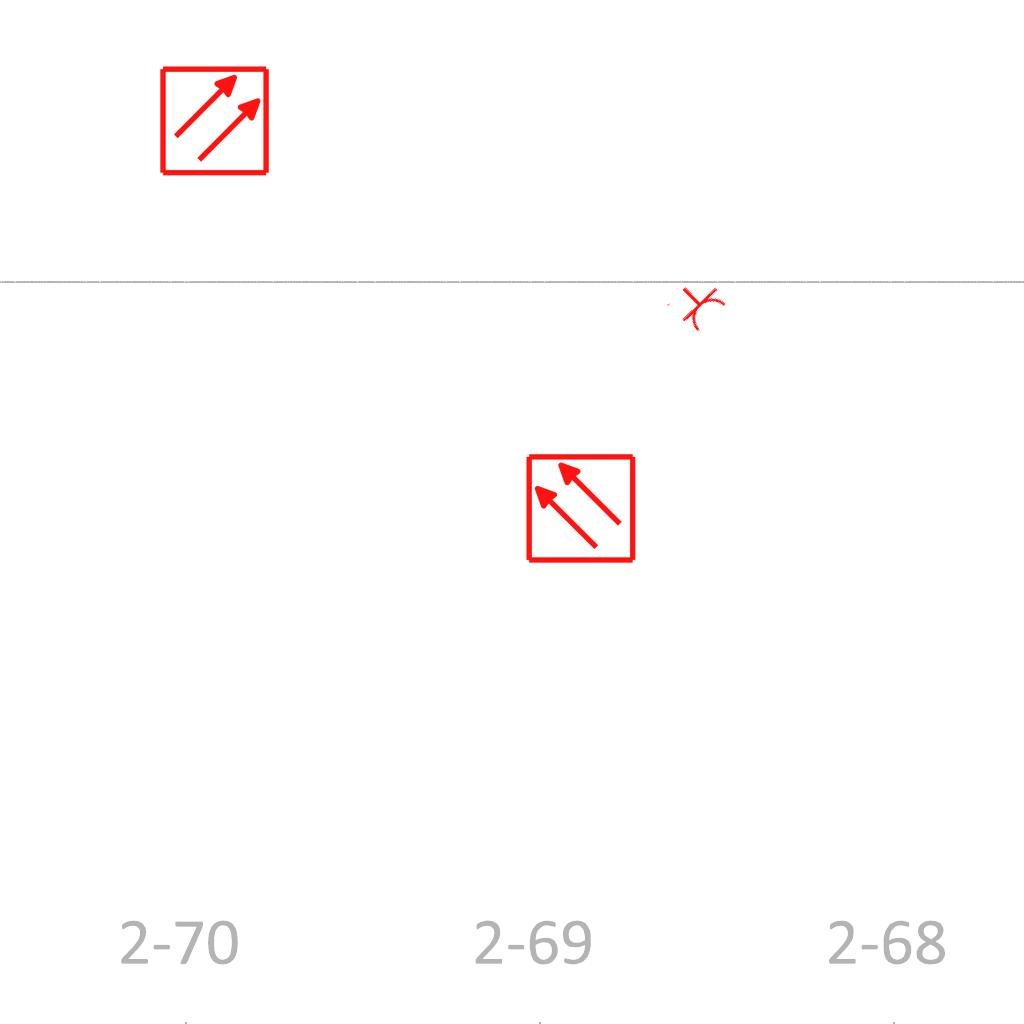RMO_Rauchmelder_optischer: (524, 452, 637, 565), (158, 64, 271, 177)
Schukosteckdose_einfach: (664, 271, 731, 337)
